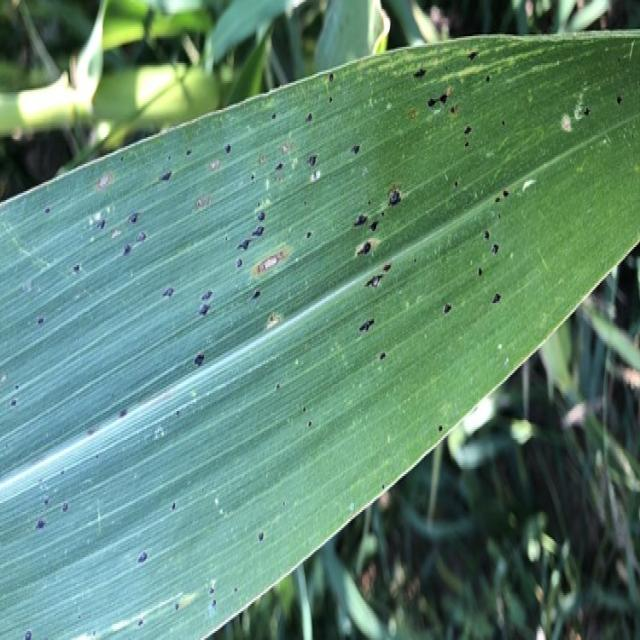Tar_Spot: (89, 145, 519, 344)
